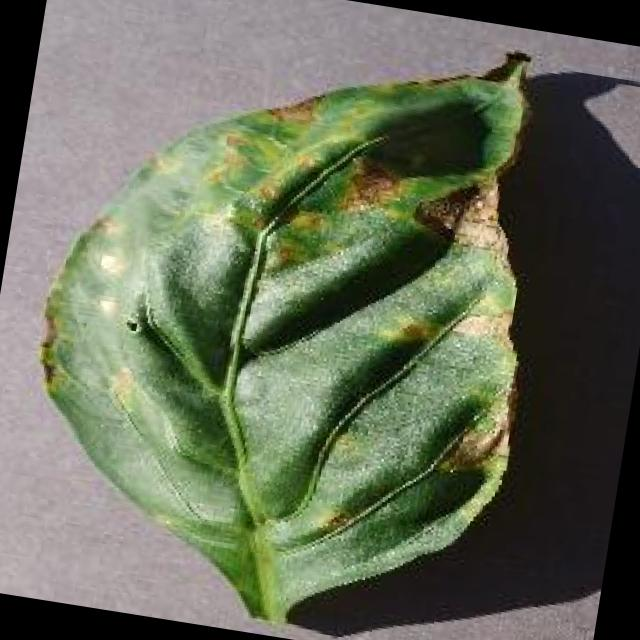Chilli_Bacterial_Spot: (0, 0, 577, 640), (332, 151, 406, 223), (434, 414, 508, 486), (407, 176, 478, 245), (200, 125, 256, 194), (100, 360, 144, 418), (389, 309, 442, 351), (494, 42, 536, 88), (89, 241, 132, 284), (311, 502, 356, 542)
